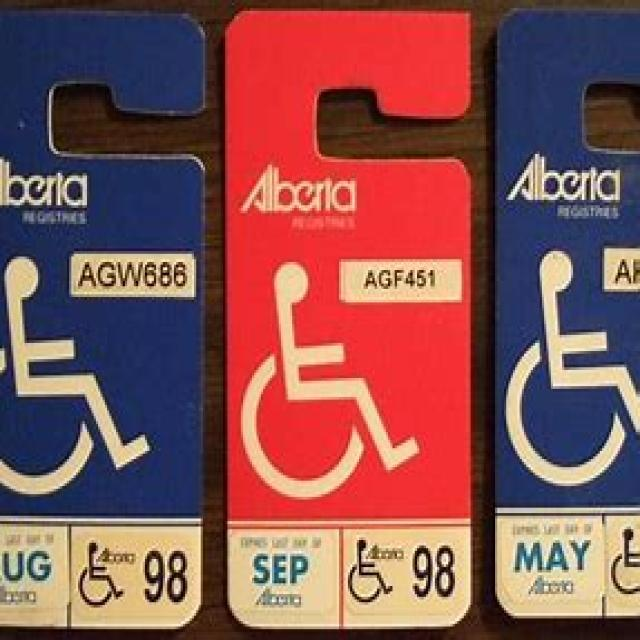symbol_of_access: (240, 263, 420, 502), (0, 256, 154, 497), (504, 253, 640, 490)
